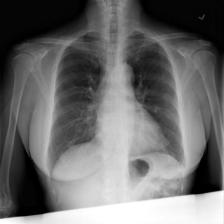normal: (41, 26, 192, 182)
